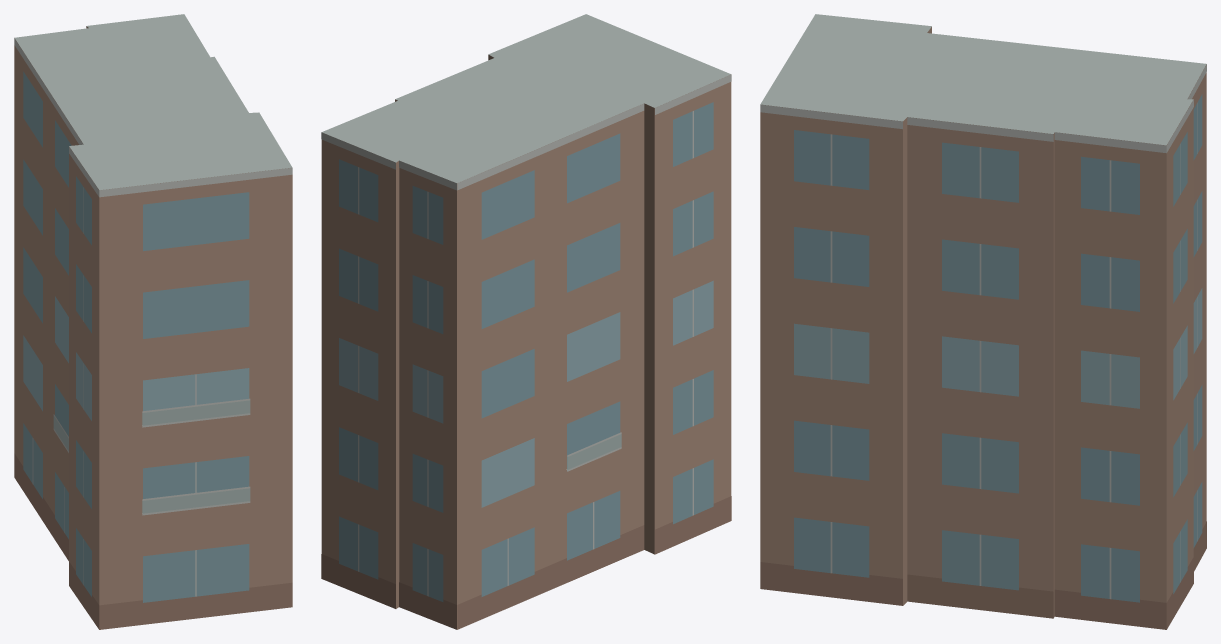
File: survey-upis-32896149.glb
The picture shows the model from 3 angles, left to right: view 1: azimuth 30°, elevation 25°; view 2: azimuth 150°, elevation 25°; view 3: azimuth 270°, elevation 25°; orthographic projection. The views are drawn at different scales.
Parts seen in each view (by area): view 1: survey-upis-32896149.tmp; view 2: survey-upis-32896149.tmp; view 3: survey-upis-32896149.tmp.
Boxes of the visible parts, left/top/right/bottom form: survey-upis-32896149.tmp: left=14, top=14, right=292, bottom=629; survey-upis-32896149.tmp: left=321, top=14, right=731, bottom=629; survey-upis-32896149.tmp: left=760, top=14, right=1206, bottom=629.
Size of the model in its own units: 8.79 by 15.1 by 12.62.
